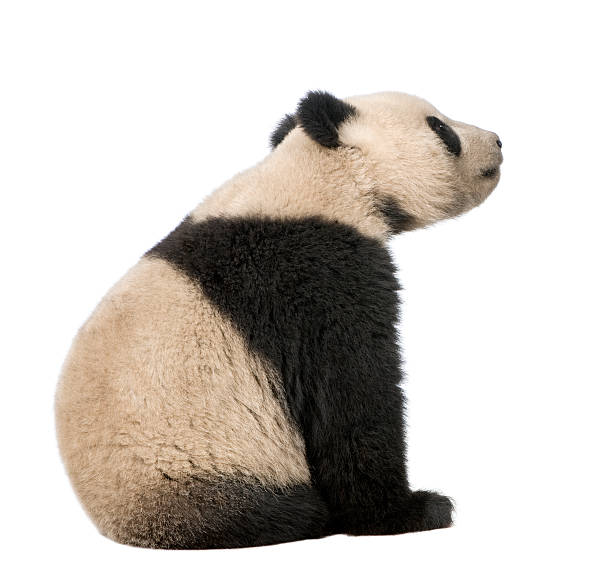panda: (267, 67, 524, 246)
